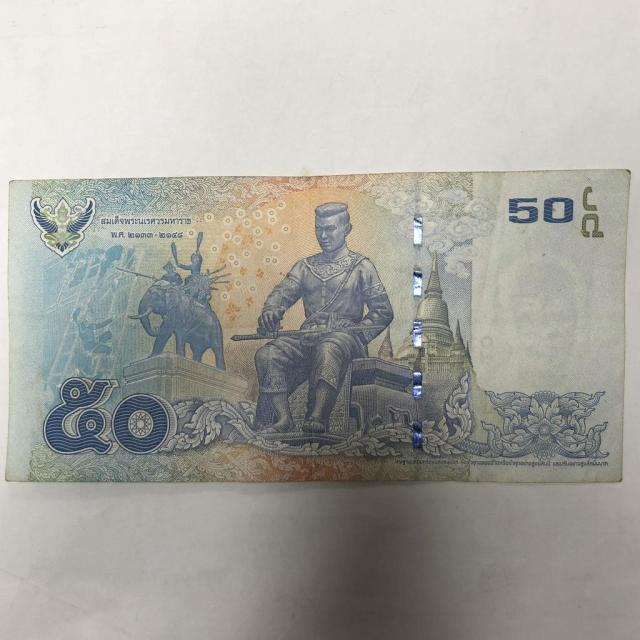THAI50: (6, 171, 629, 482)
